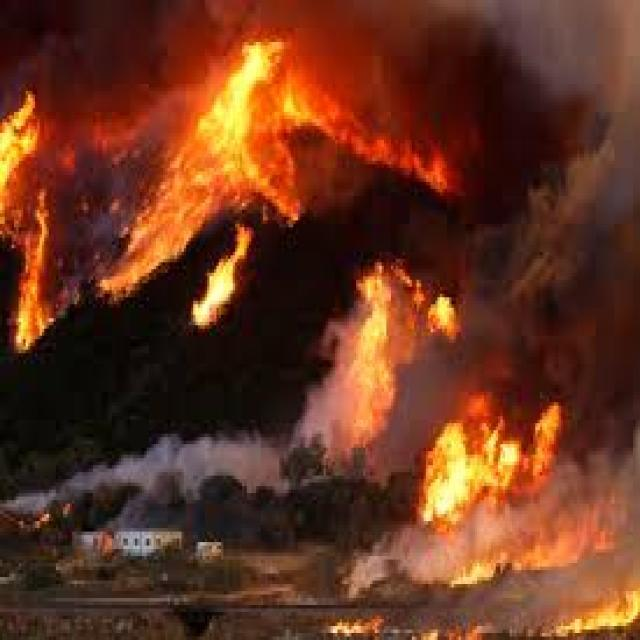Fire: (112, 22, 462, 238), (410, 408, 618, 583), (0, 85, 99, 349), (341, 262, 456, 446), (188, 220, 265, 354), (537, 584, 640, 640)
Smoke: (477, 4, 640, 416), (21, 437, 320, 505), (340, 523, 450, 599)
